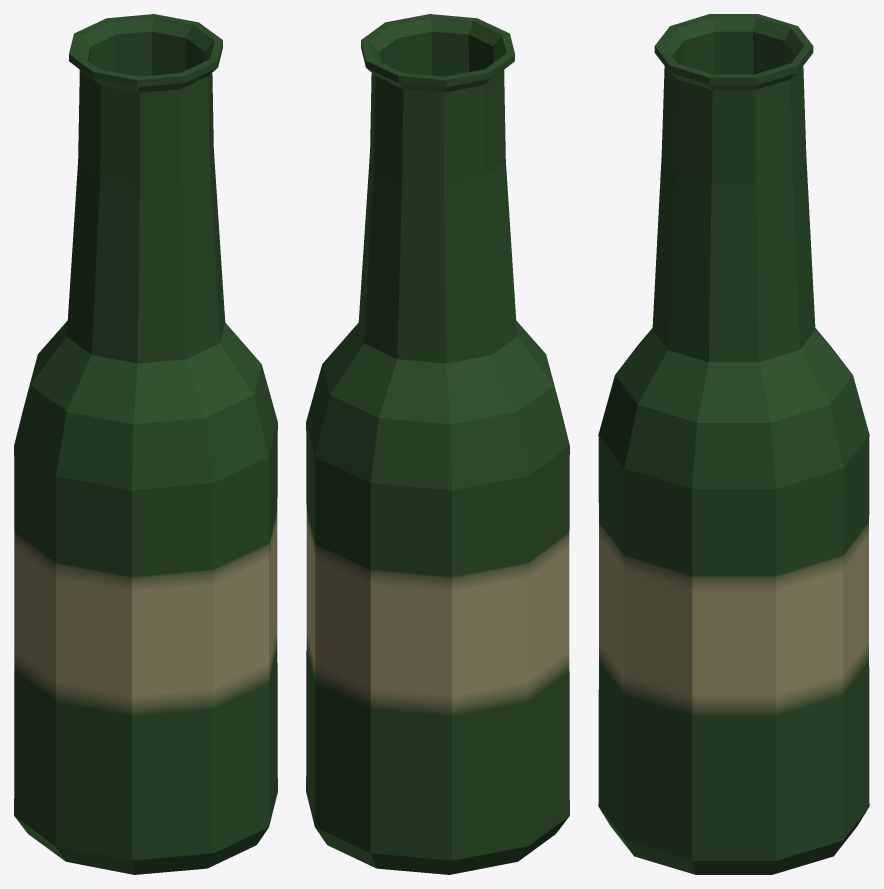
Rendered from Bottle.fbx.
3 renders of one model, left to right at view 1: azimuth 30°, elevation 25°; view 2: azimuth 150°, elevation 25°; view 3: azimuth 270°, elevation 25°, orthographic.
Visible parts, largest first — view 1: Cylinder; view 2: Cylinder; view 3: Cylinder.
Boxes of the visible parts, left/top/right/bottom form: Cylinder: left=14, top=14, right=277, bottom=874; Cylinder: left=306, top=14, right=569, bottom=874; Cylinder: left=598, top=14, right=869, bottom=874.
Bounding box in the file's own units: 9.13 × 30.51 × 9.6.
Materials: 1 (1 with a texture image).
